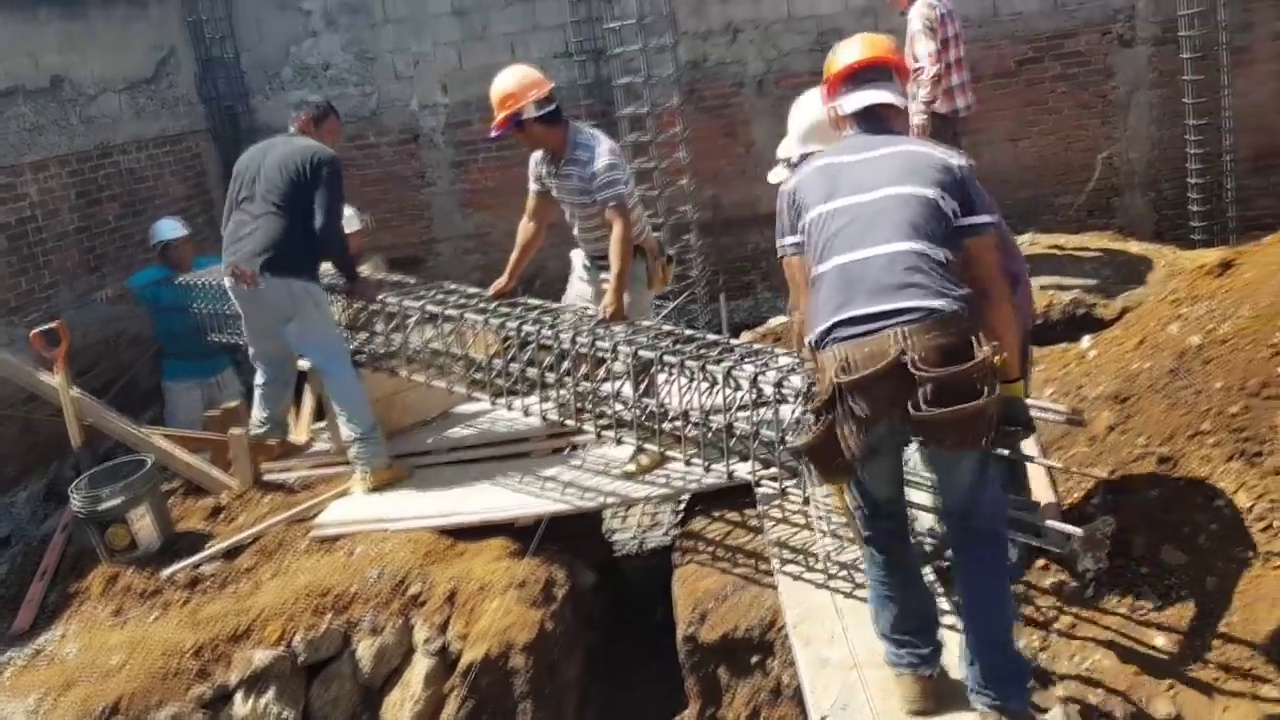helmet: (823, 28, 909, 96), (486, 64, 558, 140), (773, 89, 846, 162), (142, 215, 189, 248), (336, 200, 366, 240)
helmet-off: (289, 96, 343, 145)
helmet-on: (820, 1, 922, 145), (484, 61, 573, 156), (139, 217, 191, 273), (338, 201, 367, 267)
person: (757, 55, 1048, 696), (220, 93, 400, 488), (481, 66, 656, 328), (120, 211, 240, 438), (906, 2, 984, 152)
